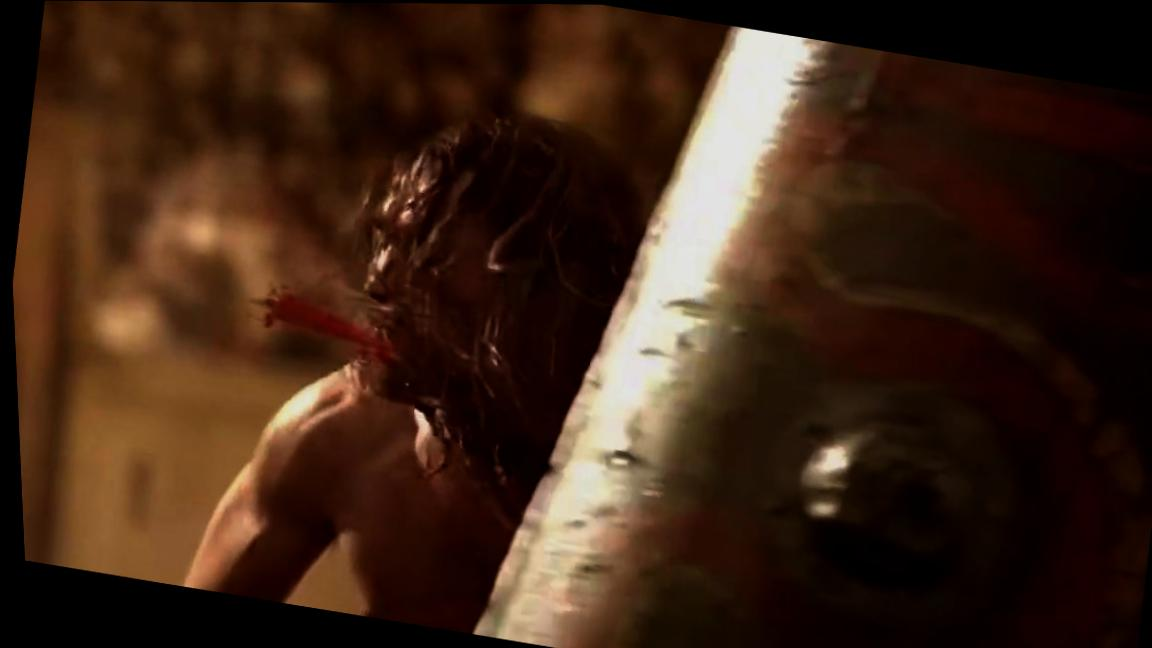Fire: (255, 293, 394, 364)
